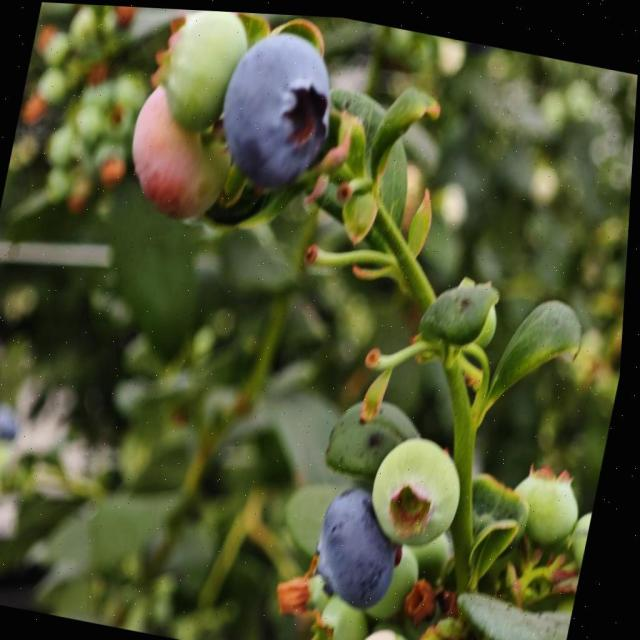RipeBlueBerry: (210, 20, 347, 194), (312, 474, 417, 610)
Semi-RipeBlueBerry: (120, 84, 241, 226)
UnripeBlueBerry: (368, 424, 478, 550), (151, 6, 250, 134)
